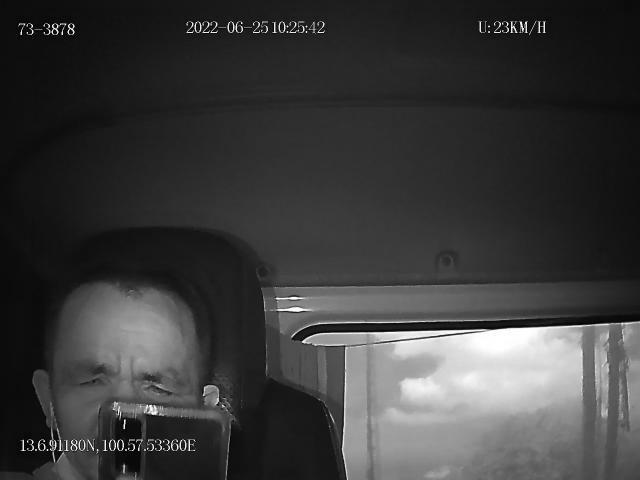PhoneUse: (95, 396, 232, 480)
